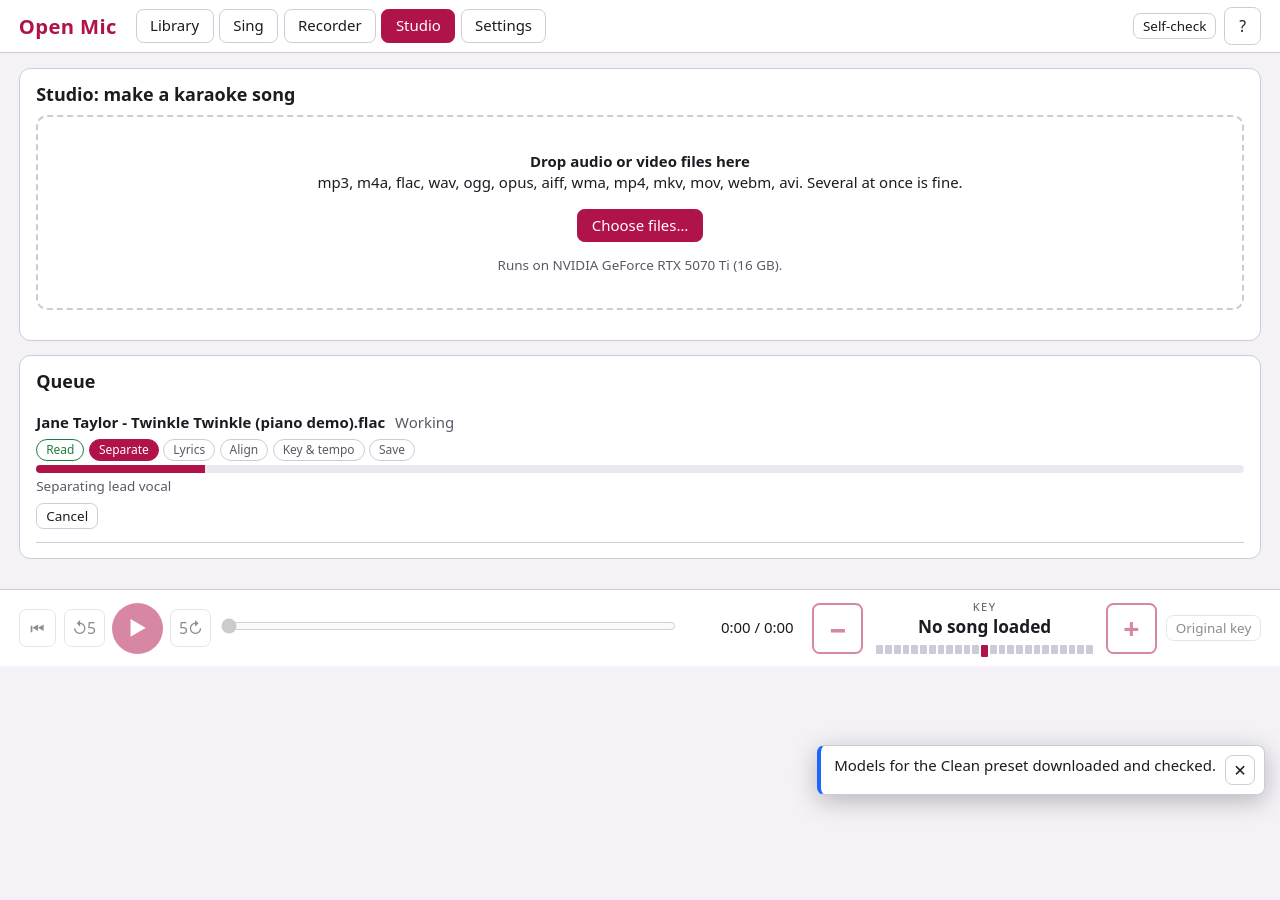
Test case: Studio form: models follow the chosen preset › Permissive: its own models (MIT), downloaded with its own preset
The width and height of the screenshot is (1280, 900).
Later steps or results of the test are not shown.
Click the button "Choose files…" at {"x": 640, "y": 226}, box left=577, top=209, right=703, bottom=242
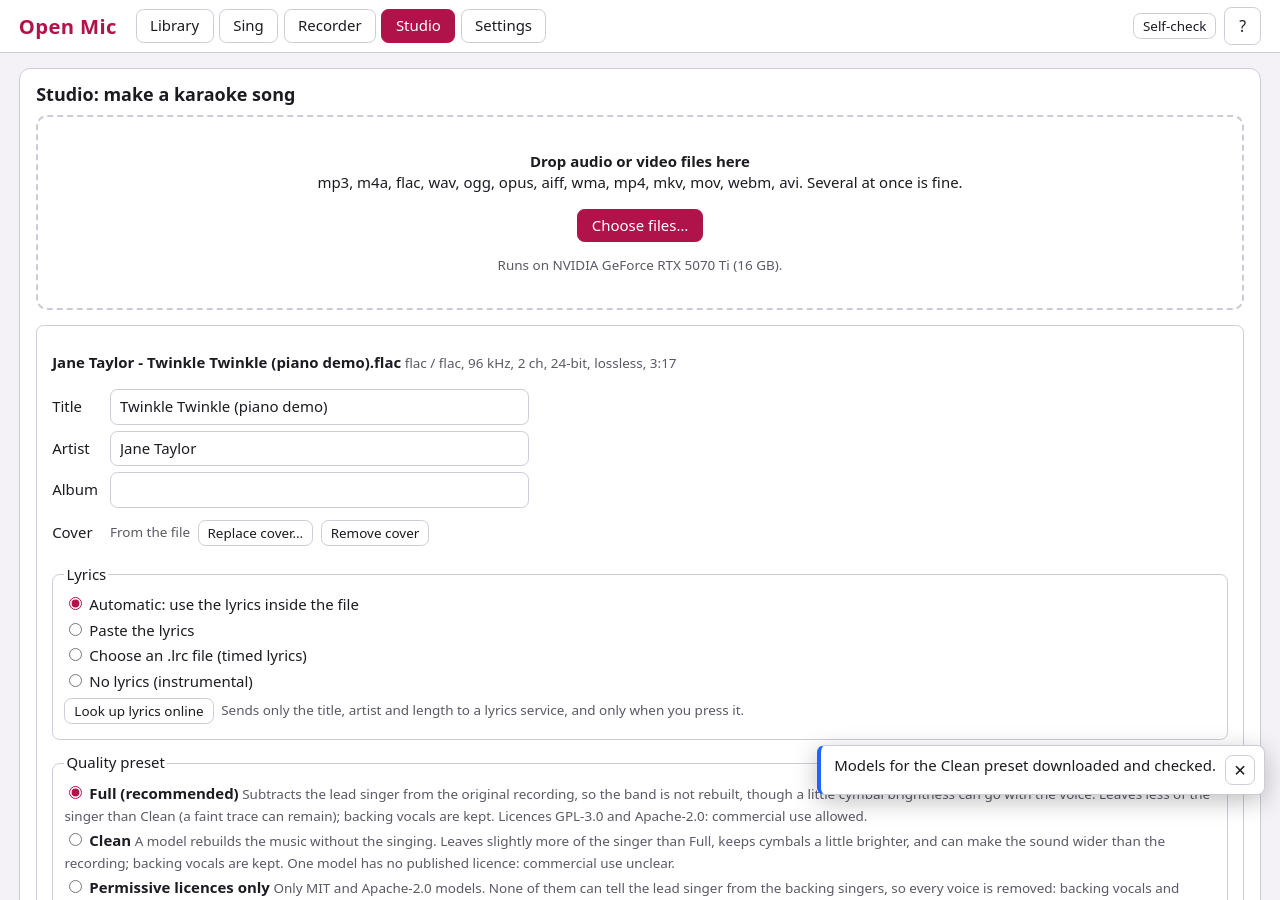
Click the 7th radio button at {"x": 76, "y": 887}, box left=69, top=880, right=82, bottom=893
(page scrolled)
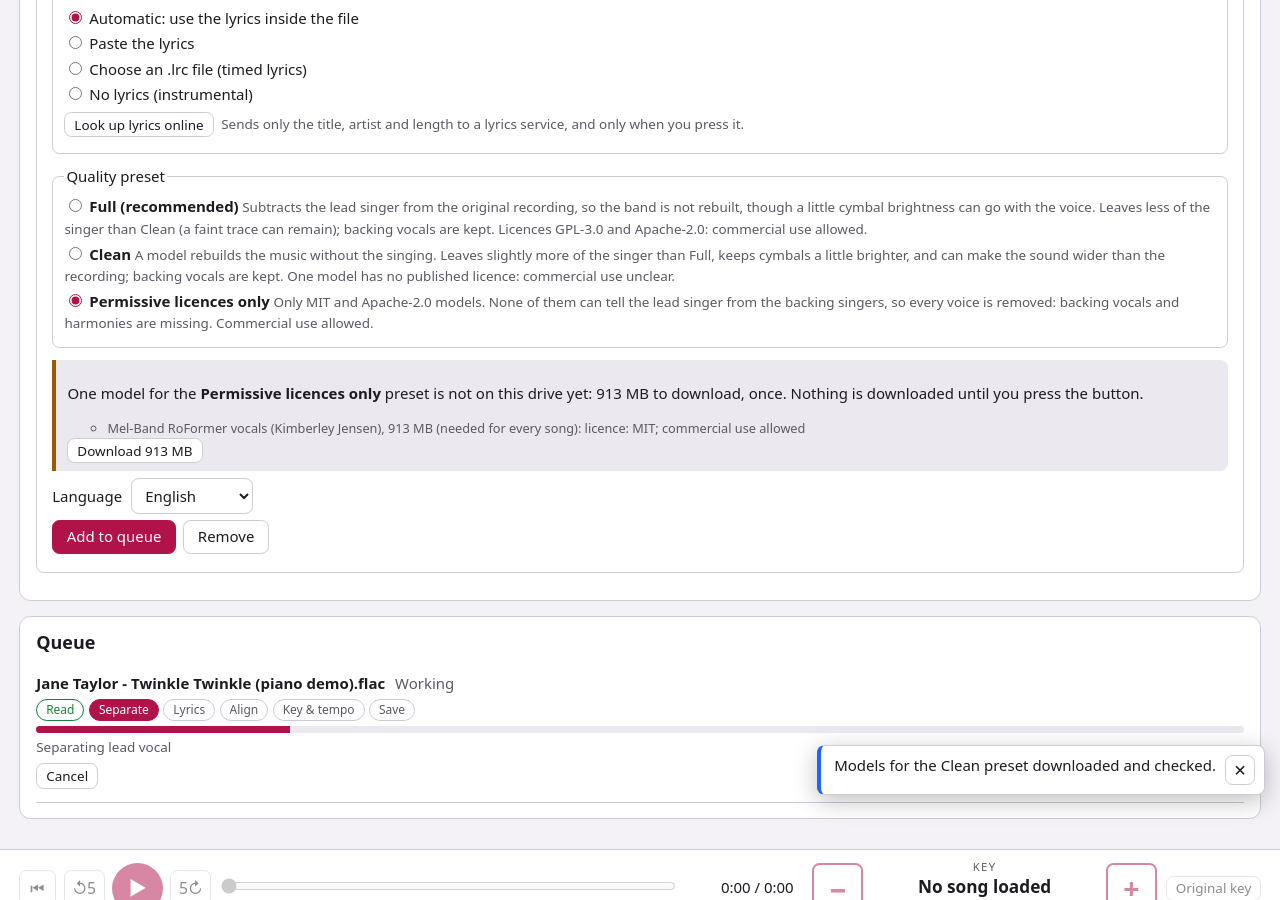
Now the element with class "studio__models-notice" shows "One model for the Permissive licences only preset", box left=52, top=360, right=1228, bottom=471
Now the element with class "studio__models-notice" shows "Mel-Band RoFormer vocals (Kimberley Jensen), 913 MB (needed for every song): licence: MIT; commercial use allowed", box left=52, top=360, right=1228, bottom=471
